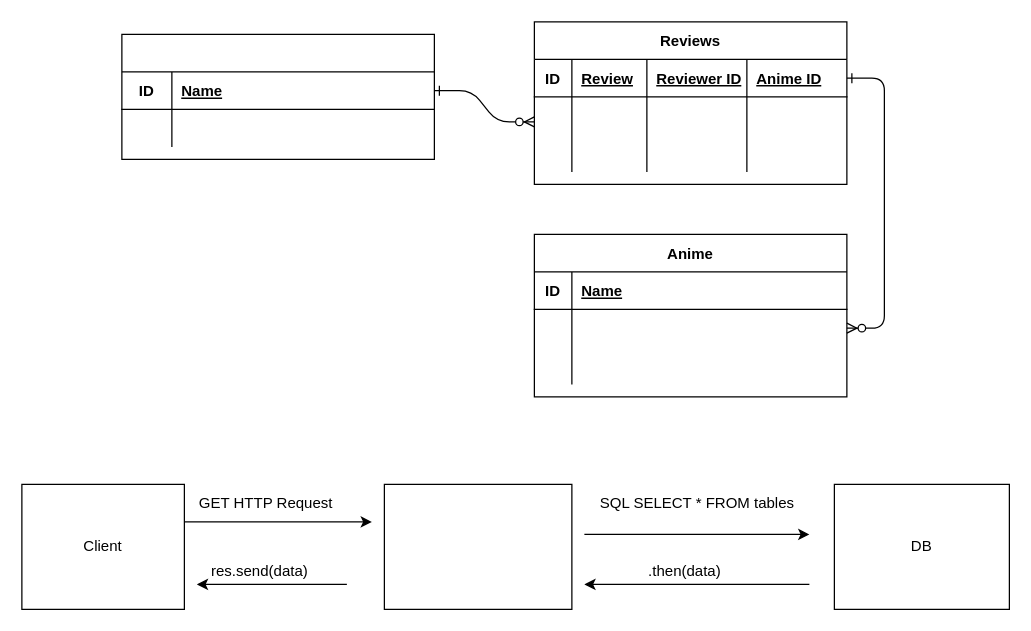
The diagram is 1031 pixels wide and 631 high, and some of its shapes have lost their labels. Here are the shapes that lost their labels. From the top down, the box of each, then its label:
(121, 33, 434, 159): Weebs
(383, 483, 572, 609): Server
